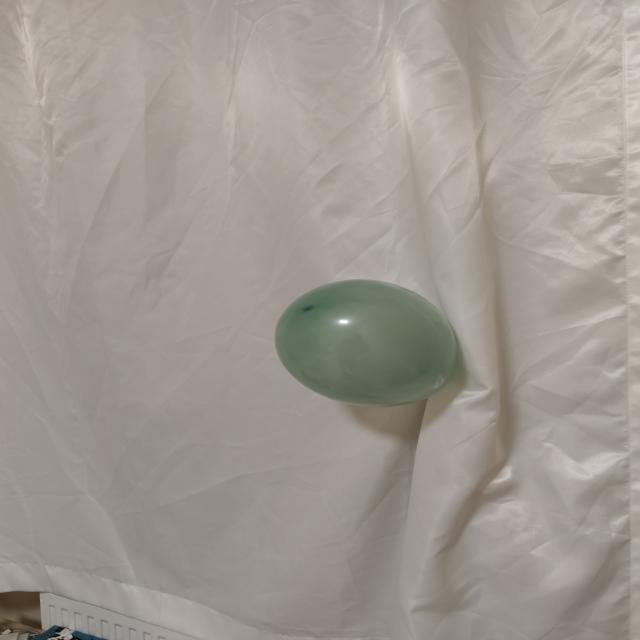balloon: (275, 280, 457, 406)
